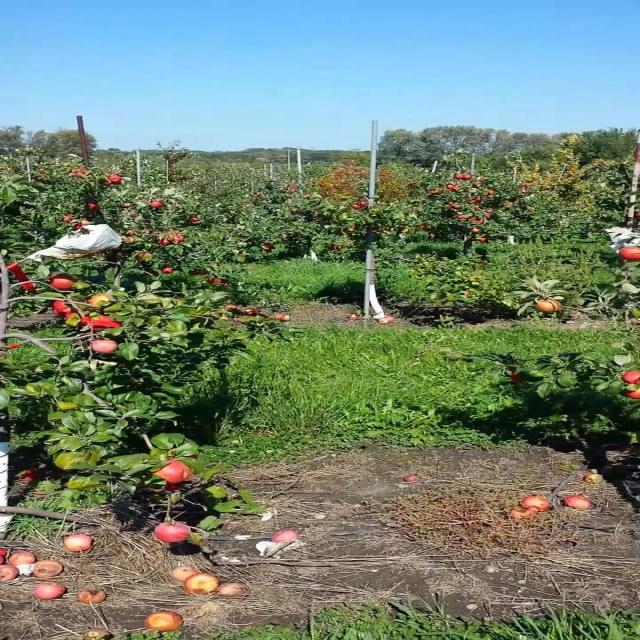apple: (153, 460, 191, 484), (153, 522, 191, 542), (89, 316, 122, 332), (49, 274, 76, 291), (91, 339, 118, 354), (50, 299, 73, 315), (536, 299, 560, 312), (618, 247, 640, 261), (87, 294, 111, 306), (76, 313, 96, 325), (156, 481, 180, 491), (622, 371, 640, 384), (62, 308, 83, 319), (4, 261, 20, 273), (624, 388, 639, 398), (20, 281, 34, 290), (508, 373, 520, 381)
